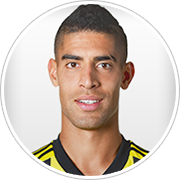smile: (75, 96, 103, 110)
